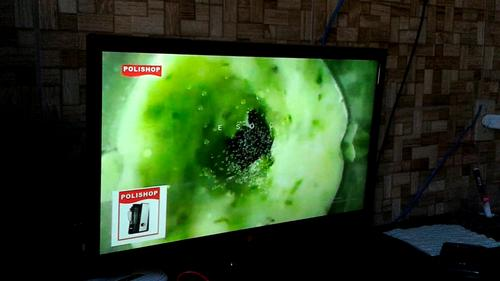Polishop #1: (111, 184, 168, 246)
